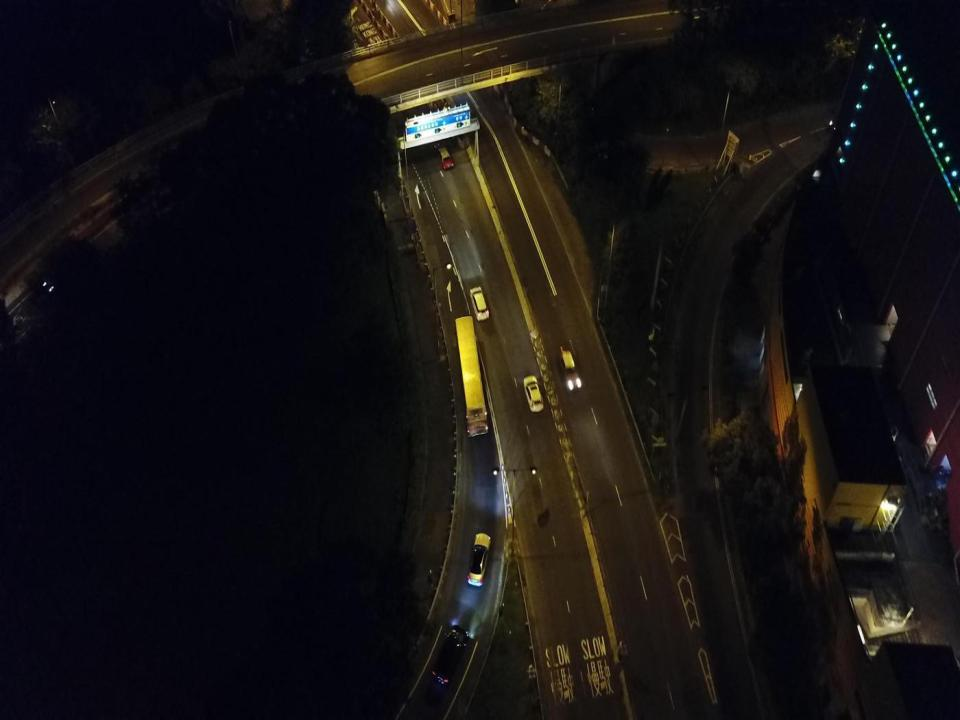bus: (455, 314, 489, 440)
car: (431, 623, 469, 686), (42, 252, 83, 292), (467, 532, 492, 586), (559, 346, 581, 390), (523, 375, 545, 414), (829, 114, 865, 133), (438, 145, 454, 168)
van: (470, 283, 489, 323)
